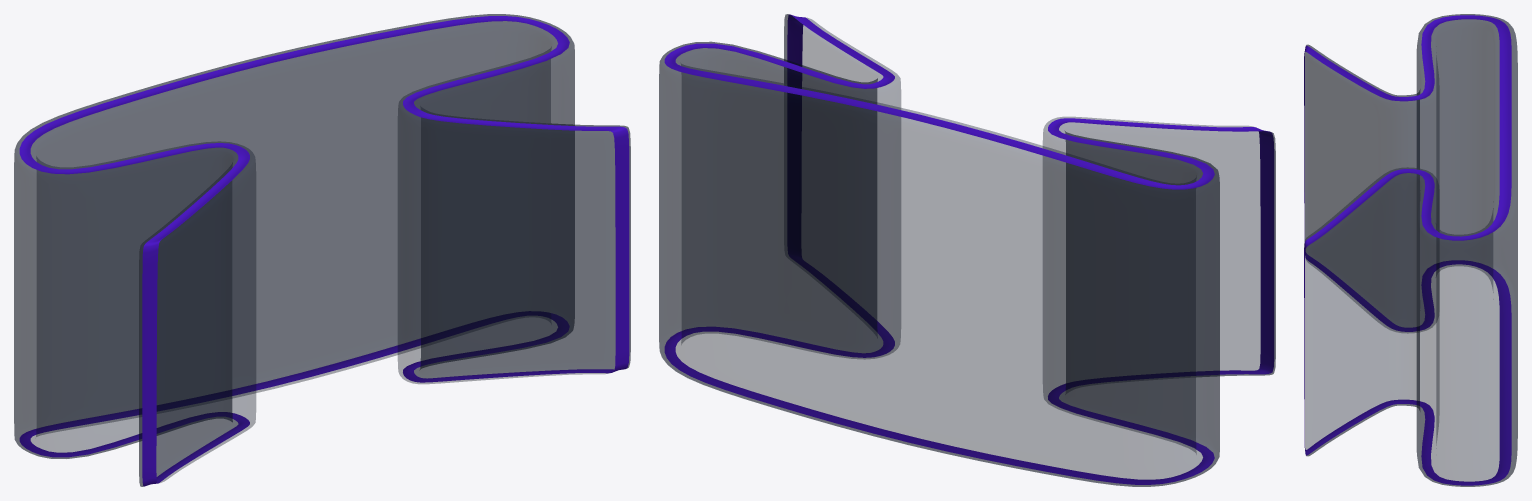
The model's file is minitable.fbx.
The picture shows the model from 3 angles, left to right: view 1: azimuth 30°, elevation 25°; view 2: azimuth 150°, elevation 25°; view 3: azimuth 270°, elevation 25°; orthographic projection. The views are drawn at different scales.
Parts seen in each view (by area): view 1: Object_2\Object_2, Object_3\Object_3; view 2: Object_2\Object_2, Object_3\Object_3; view 3: Object_2\Object_2, Object_3\Object_3.
Part boxes in pixels (x1,y1,x2,y2): Object_2\Object_2: (14,14,630,486); Object_3\Object_3: (19,16,629,486); Object_2\Object_2: (659,14,1275,486); Object_3\Object_3: (664,14,1274,484); Object_2\Object_2: (1304,14,1517,486); Object_3\Object_3: (1304,15,1511,485).
Size of the model in its own units: 3298 by 1302 by 1876.
